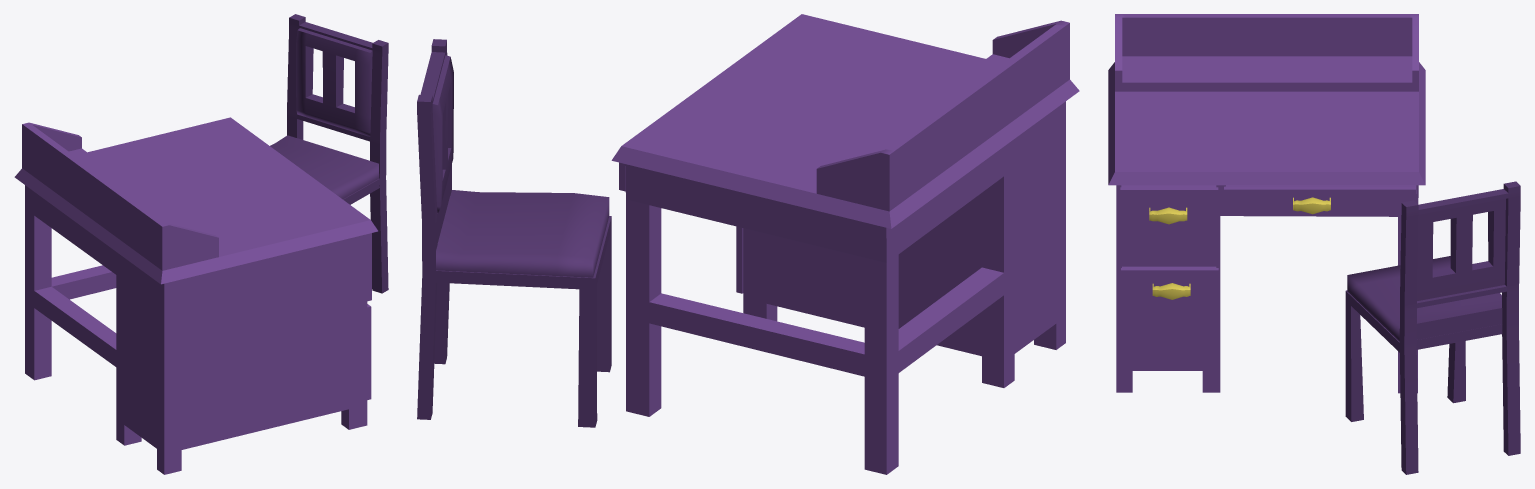
Rendered from ChildsDesk.fbx.
3 renders of one model, left to right at view 1: azimuth 30°, elevation 25°; view 2: azimuth 150°, elevation 25°; view 3: azimuth 270°, elevation 25°, orthographic. The views are drawn at different scales.
Parts seen in each view (by area): view 1: ChildDeskForScaling:pCube1, chair1, ChildDeskForScaling:DeskSideDrawerLower; view 2: ChildDeskForScaling:pCube1, chair1; view 3: ChildDeskForScaling:pCube1, chair1, ChildDeskForScaling:DeskSideDrawerLower, ChildDeskForScaling:DeskSideDrawerUpper, ChildDeskForScaling:DeskUndersideDrawer, ChildDeskForScaling:DeskHandleLowerSide, DeskHandleSideLower, DeskHandleUnderside.
Boxes of the visible parts, x1,y1,x2,y2 form: ChildDeskForScaling:pCube1: (14, 117, 377, 474); chair1: (270, 14, 388, 293); ChildDeskForScaling:DeskSideDrawerLower: (367, 304, 371, 399); ChildDeskForScaling:pCube1: (611, 14, 1079, 474); chair1: (417, 39, 611, 427); ChildDeskForScaling:pCube1: (1108, 14, 1425, 393); chair1: (1345, 181, 1520, 474); ChildDeskForScaling:DeskSideDrawerLower: (1121, 266, 1218, 370); ChildDeskForScaling:DeskSideDrawerUpper: (1120, 185, 1218, 263); ChildDeskForScaling:DeskUndersideDrawer: (1224, 185, 1415, 212); ChildDeskForScaling:DeskHandleLowerSide: (1149, 207, 1187, 224); DeskHandleSideLower: (1152, 283, 1190, 299); DeskHandleUnderside: (1293, 197, 1330, 214).
Size of the model in its own units: 1.48 by 0.9685 by 1.34.
